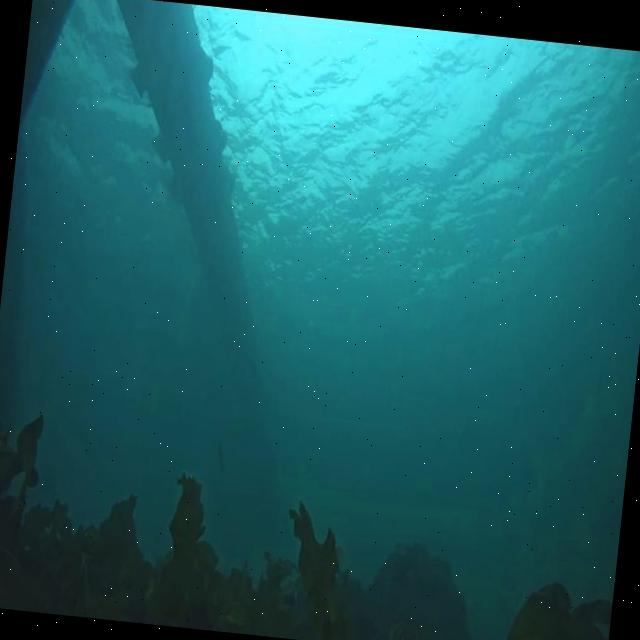fish: (212, 436, 230, 475)
